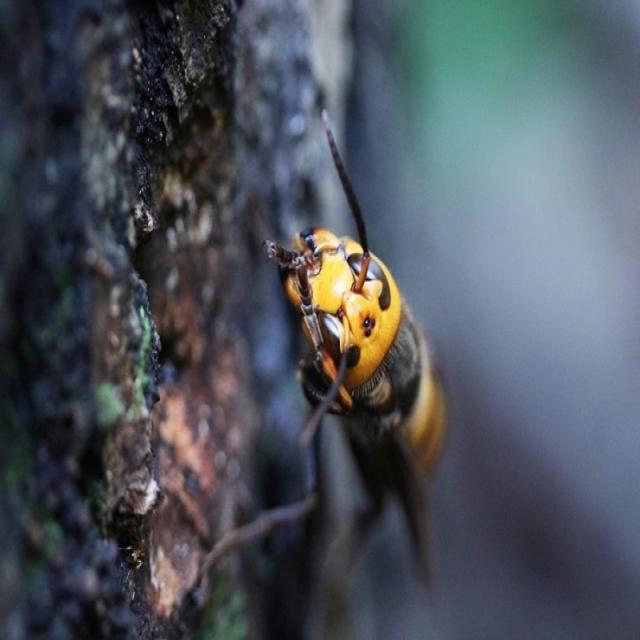Wasp: (246, 95, 453, 592)
